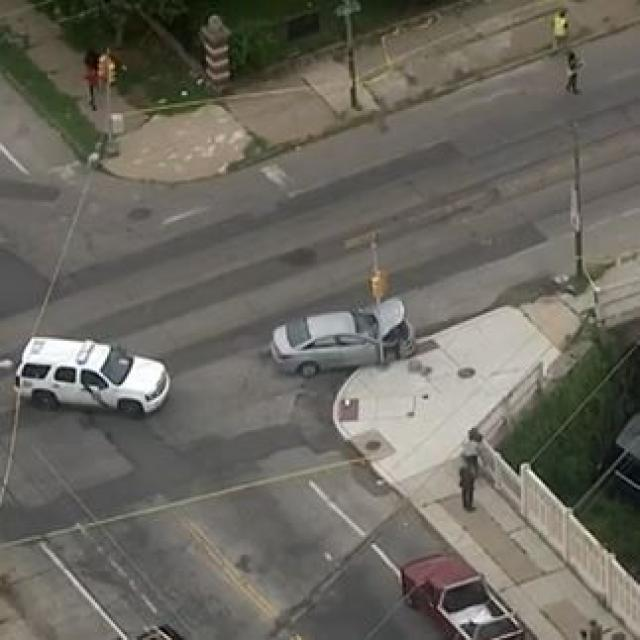traffic_incident: (256, 292, 420, 372)
